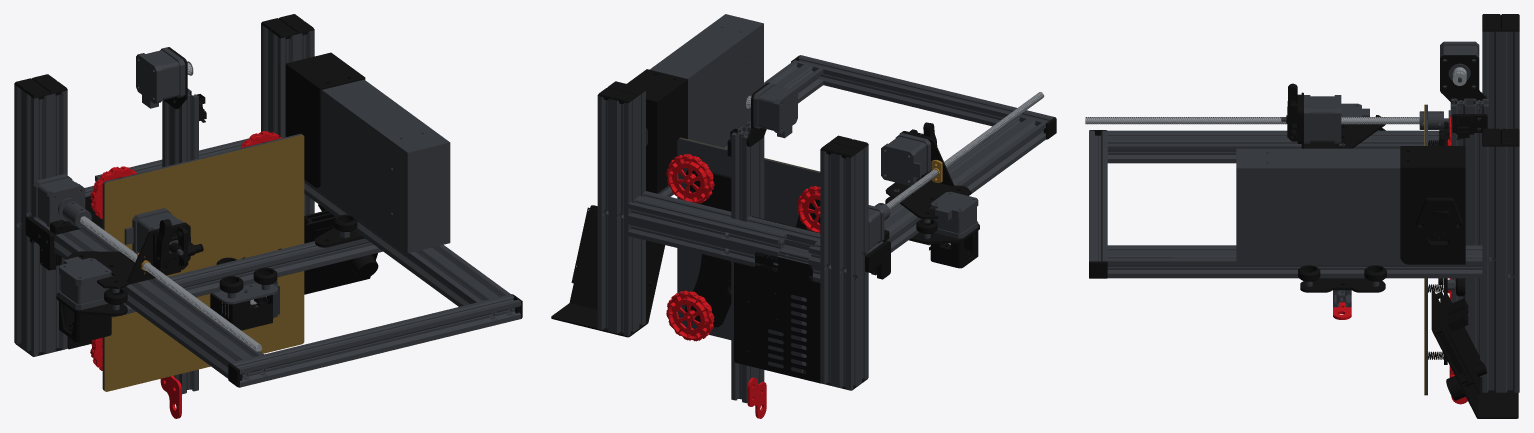
The model's file is bedslinger.glb.
The picture shows the model from 3 angles, left to right: view 1: azimuth 30°, elevation 25°; view 2: azimuth 150°, elevation 25°; view 3: azimuth 270°, elevation 25°; orthographic projection. The views are drawn at different scales.
Parts seen in each view (by area): view 1: frame__383b40, bed__765c2c, frame__141518, gantry_z__383b40, gantry_z__141518, frame__8c9096, toolhead__141518, bed__c4161c, carriage__141518, carriage__383b40, bed__383b40, frame__c4161c; view 2: frame__383b40, frame__141518, bed__383b40, bed__c4161c, gantry_z__141518, gantry_z__383b40, bed__141518, frame__8c9096, frame__c4161c; view 3: frame__383b40, frame__141518, gantry_z__141518, gantry_z__383b40, frame__8c9096, bed__141518, bed__383b40.
Part boxes in pixels (x1,y1,x2,y2): frame__383b40: (14, 24, 520, 394); bed__765c2c: (104, 135, 304, 391); frame__141518: (14, 14, 522, 387); gantry_z__383b40: (59, 208, 382, 317); gantry_z__141518: (56, 214, 364, 342); frame__8c9096: (80, 61, 262, 351); toolhead__141518: (210, 294, 272, 330); bed__c4161c: (90, 131, 281, 370); carriage__141518: (216, 248, 281, 293); carriage__383b40: (211, 282, 277, 304); bed__383b40: (102, 133, 302, 390); frame__c4161c: (160, 375, 181, 418); frame__383b40: (597, 14, 1054, 403); frame__141518: (551, 55, 1056, 390); bed__383b40: (677, 138, 820, 339); bed__c4161c: (666, 154, 820, 341); gantry_z__141518: (885, 122, 979, 268); gantry_z__383b40: (881, 133, 978, 245); bed__141518: (685, 170, 820, 327); frame__8c9096: (746, 92, 1044, 209); frame__c4161c: (747, 377, 766, 418); frame__383b40: (1089, 31, 1519, 392); frame__141518: (1089, 14, 1519, 418); gantry_z__141518: (1286, 83, 1386, 292); gantry_z__383b40: (1281, 95, 1379, 307); frame__8c9096: (1085, 67, 1466, 124); bed__141518: (1428, 134, 1465, 364); bed__383b40: (1425, 104, 1455, 395).
Bounding box in the file's own units: 440 × 410 × 464.
